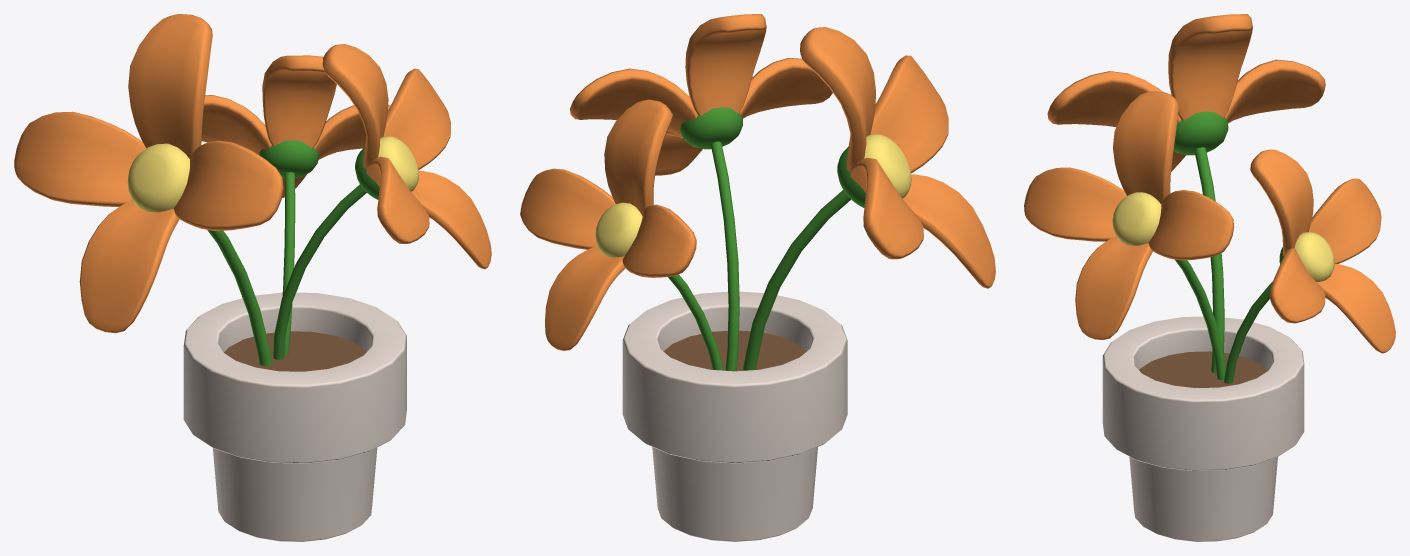
File: Flower_10.glb
3 renders of one model, left to right at view 1: azimuth 30°, elevation 25°; view 2: azimuth 150°, elevation 25°; view 3: azimuth 270°, elevation 25°, orthographic. The views are drawn at different scales.
Visible parts, largest first — view 1: Flower_9; view 2: Flower_9; view 3: Flower_9.
Boxes of the visible parts, x1,y1,x2,y2 form: Flower_9: (14, 14, 491, 541); Flower_9: (520, 14, 995, 541); Flower_9: (1024, 14, 1395, 541).
Size of the model in its own units: 0.6272 by 0.7656 by 0.5625.
Materials: 1 (1 with a texture image).
